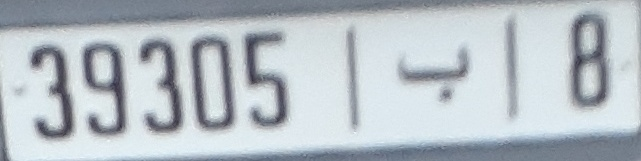0: (190, 34, 237, 135)
3: (135, 36, 186, 138), (27, 43, 75, 144)
5: (242, 27, 290, 129)
8: (567, 12, 611, 110)
9: (80, 41, 130, 141)
b: (395, 42, 475, 104)
